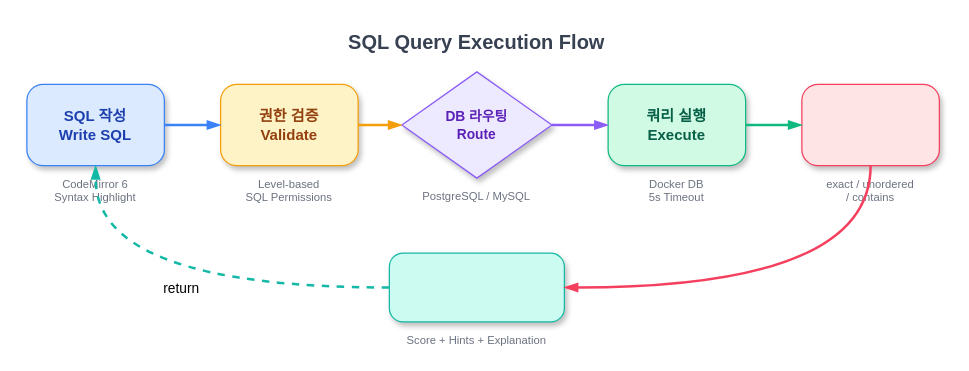
The diagram is 969 pixels wide and 371 high, and some of its shapes have lost their labels. Each missing label, with the centre of its shape:
"결과 채점 Grade" belongs at (x=871, y=126).
"피드백 / Feedback" belongs at (x=477, y=289).
